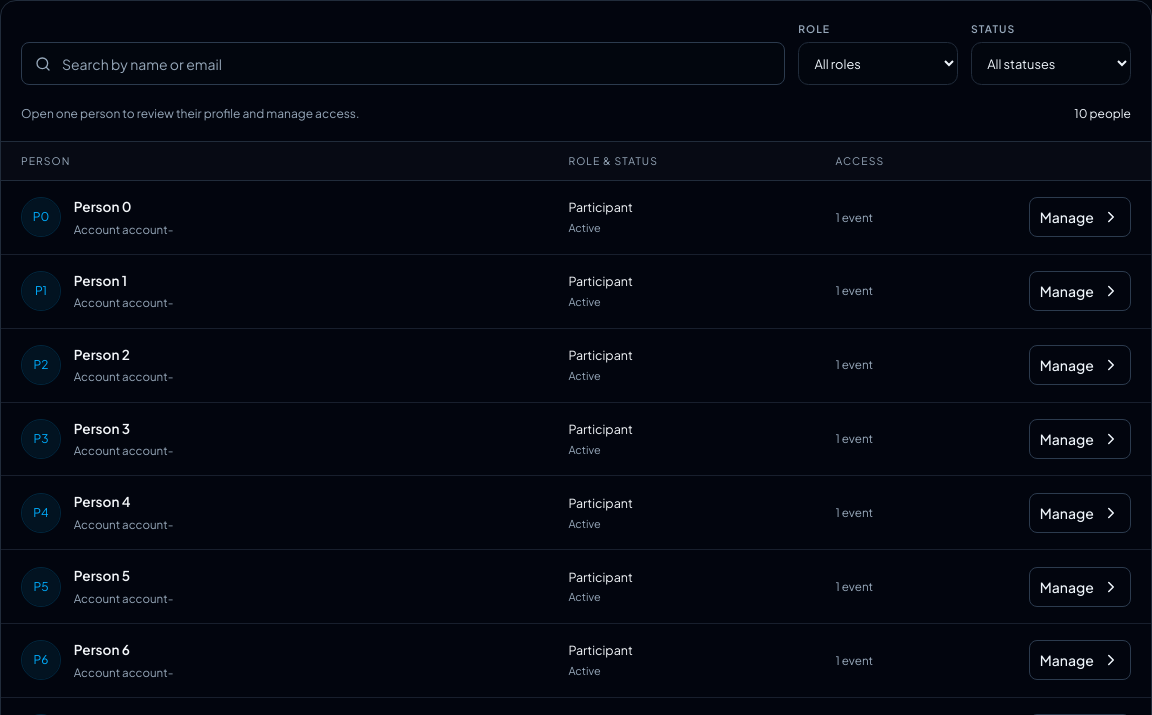
Scenario: admin people directory › opens only one person's contact information and closes it when changing events
Click the button with aria-label "Manage Person 0": (1080, 217) [1029,197,1131,237]
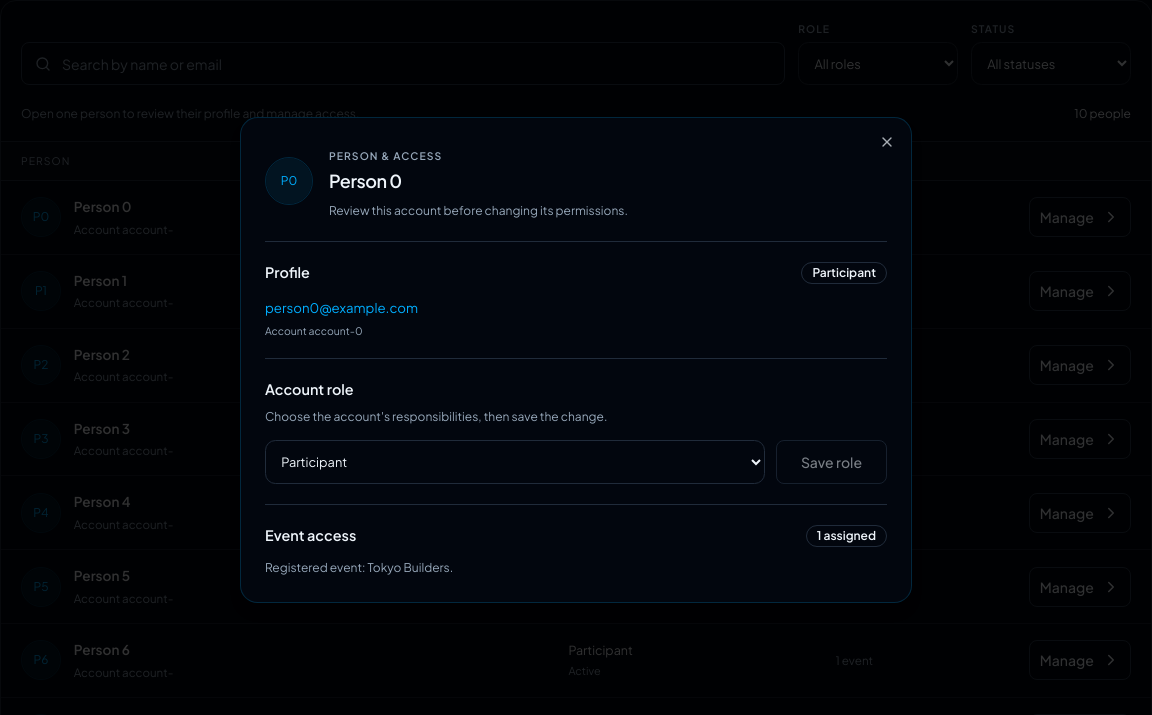
Expected: the link "person0@example.com" is shown, [265,298,418,318]
